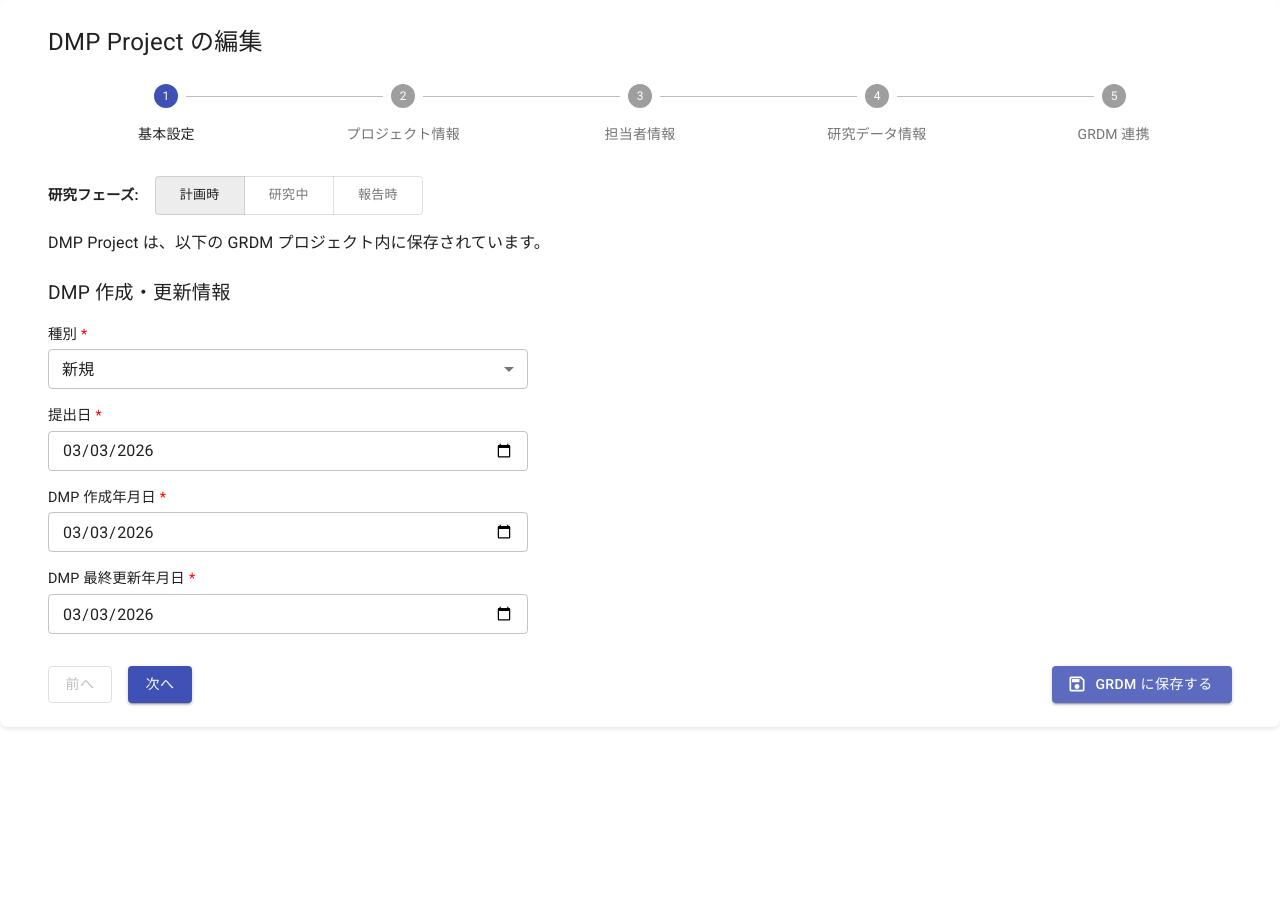
FormCard with Stepper › step navigation › does not show 次へ button at step 5 (last step)
Click the text "GRDM 連携" at (1114, 134), box [1078, 124, 1150, 144]
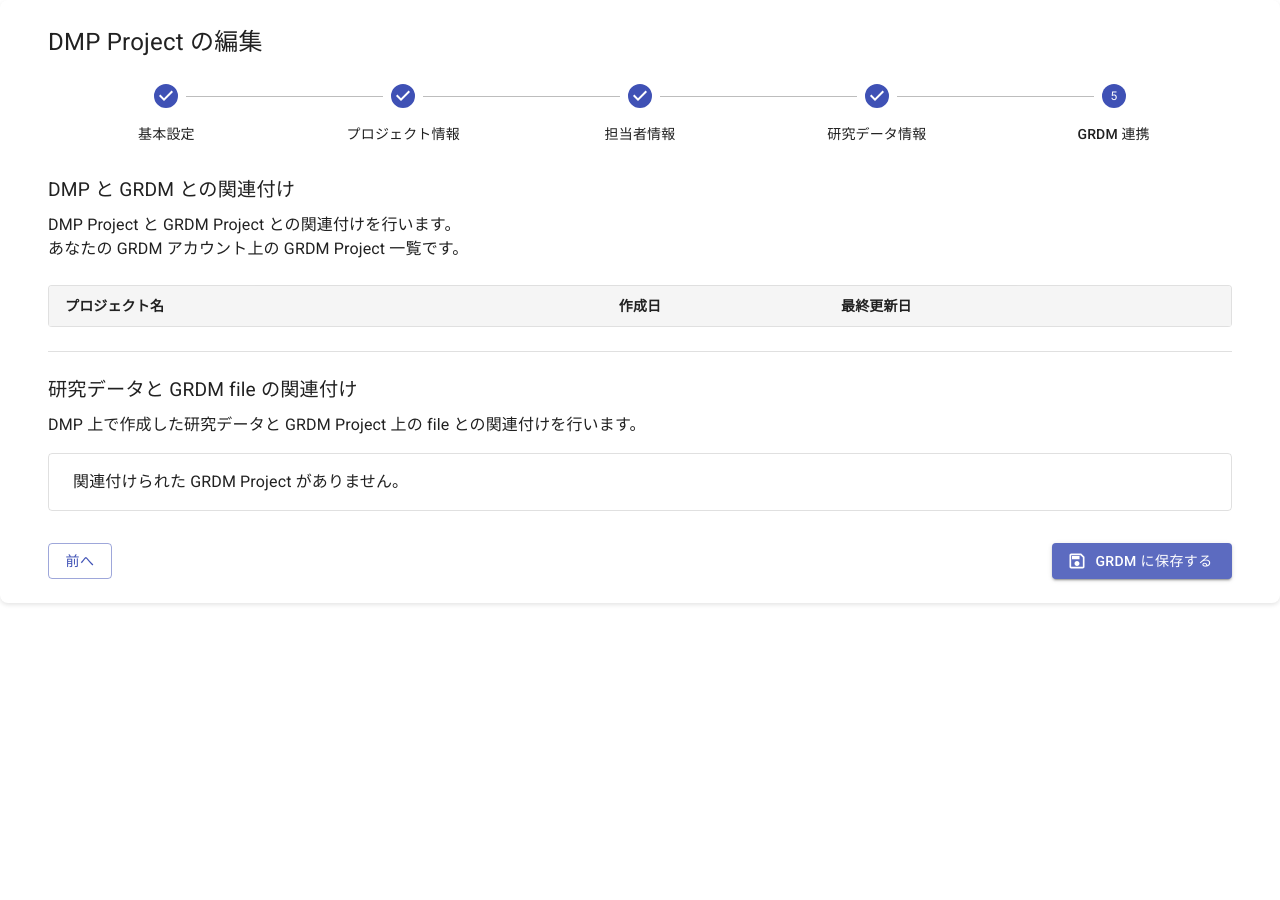
Now the button "次へ" is gone
